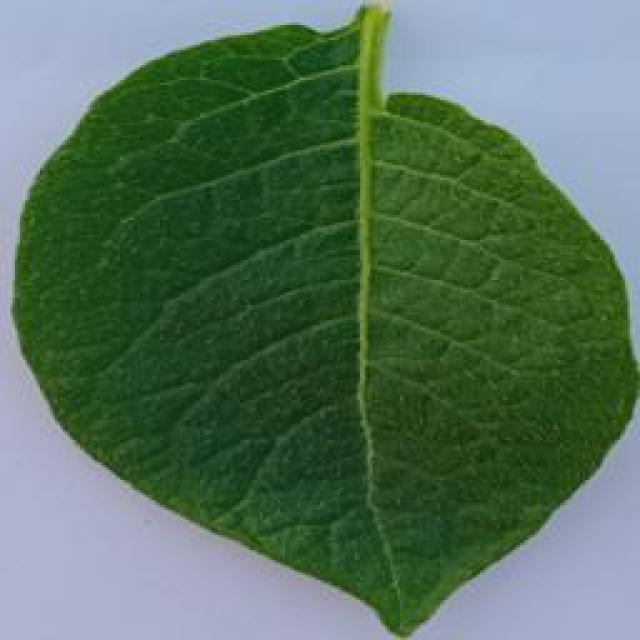Potato_Healthy: (12, 6, 629, 635)
